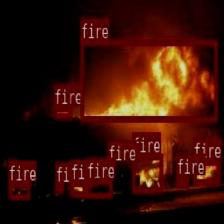fire: (80, 38, 218, 122), (132, 153, 162, 192), (192, 158, 219, 184), (86, 178, 112, 198), (8, 182, 30, 198), (53, 104, 72, 118), (70, 180, 85, 195), (176, 175, 188, 187), (54, 182, 63, 192), (107, 161, 115, 169)
